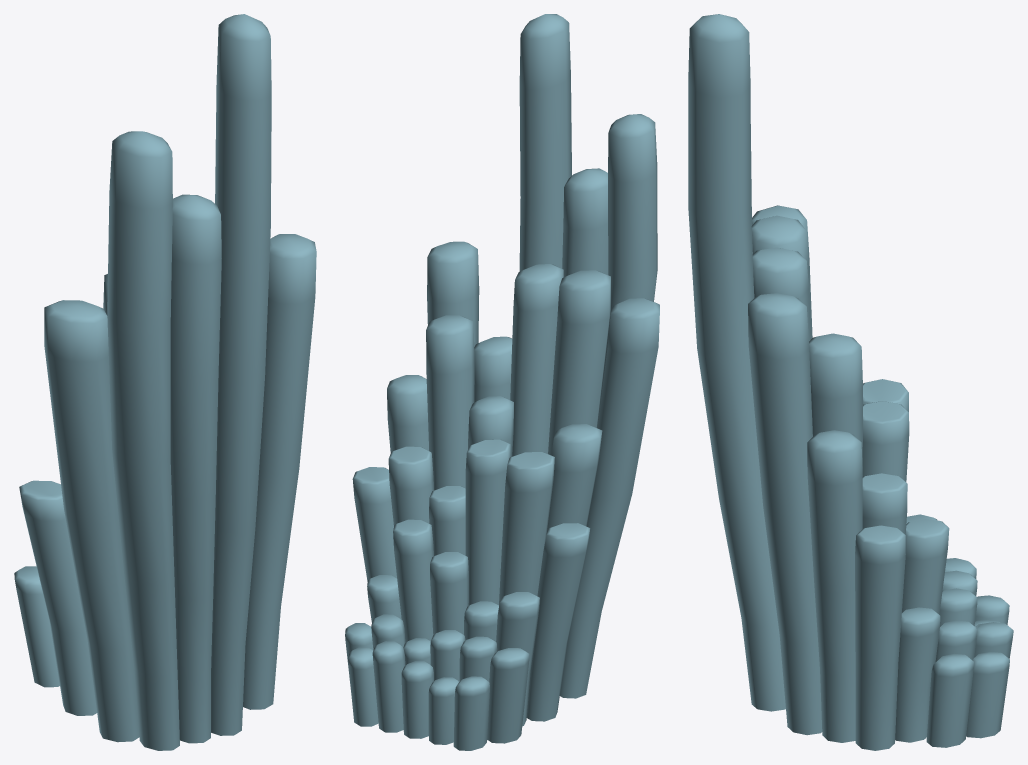
File: geo_obstacle_medium3.fbx
3 renders of one model, left to right at view 1: azimuth 30°, elevation 25°; view 2: azimuth 150°, elevation 25°; view 3: azimuth 270°, elevation 25°, orthographic. The views are drawn at different scales.
Visible parts, largest first — view 1: Tubular.002; view 2: Tubular.002; view 3: Tubular.002.
Part boxes in pixels (left/top/right/bottom): Tubular.002: left=14, top=14, right=316, bottom=750; Tubular.002: left=345, top=14, right=659, bottom=750; Tubular.002: left=688, top=14, right=1013, bottom=750.
Bounding box in the file's own units: 791 × 1858 × 798.
